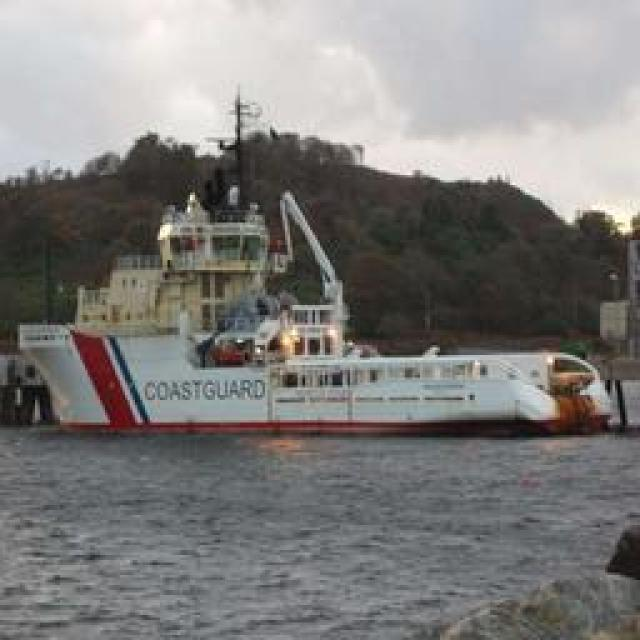ship2: (14, 87, 614, 439)
